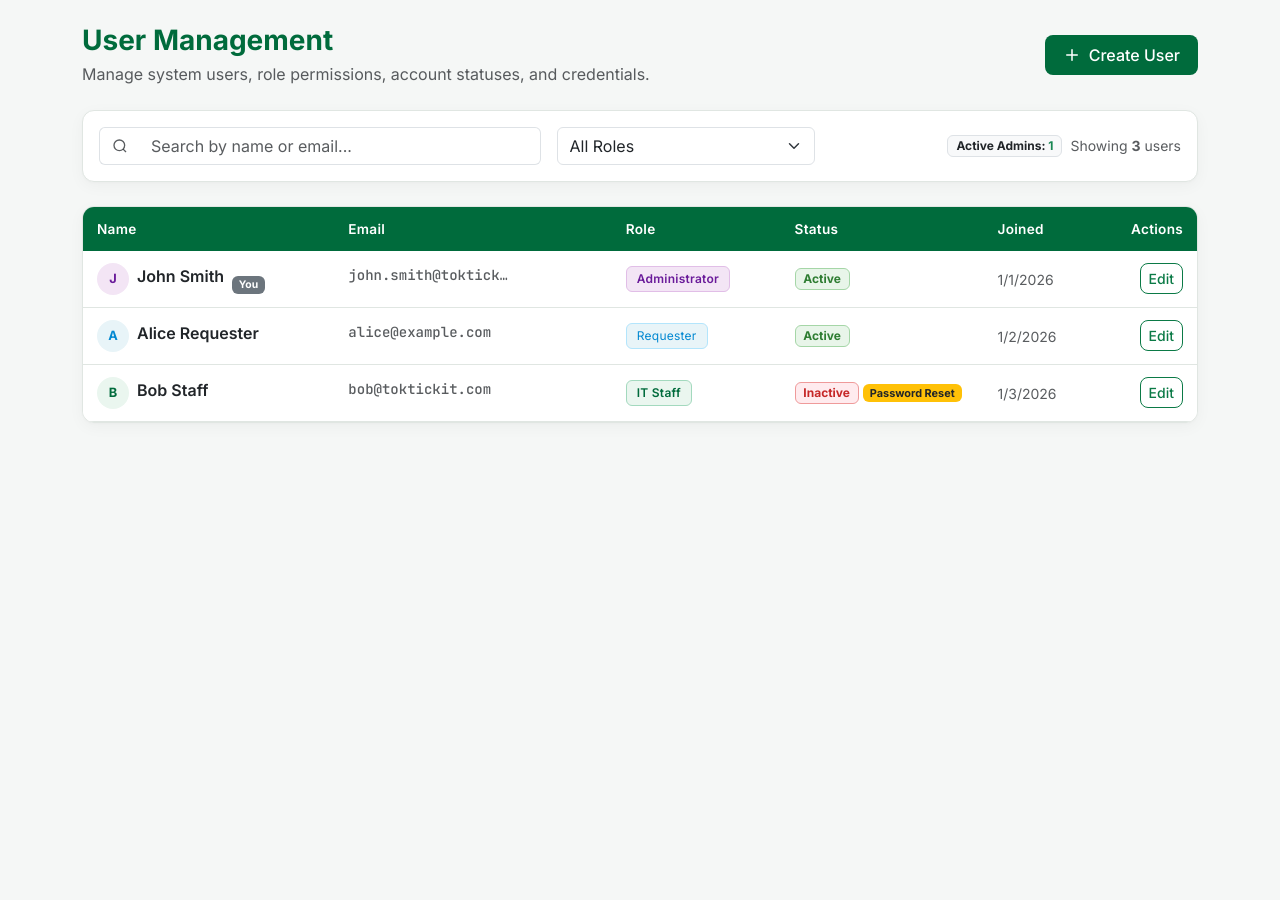
Test: UserManagement Component Tests (UI-06, AC-13..16, FR-17..20) › enforces self-deactivation prevention when editing own admin account (AC-14, BR-21)
The image size is (1280, 900).
# John Smith is ID 1 (current logged-in user)
What coordinates should you click on to do the following:
click the button with test id "btn-edit-user-1"
I would click on:
 (1161, 279)
Its box is x1=1140 y1=264 x2=1183 y2=294.
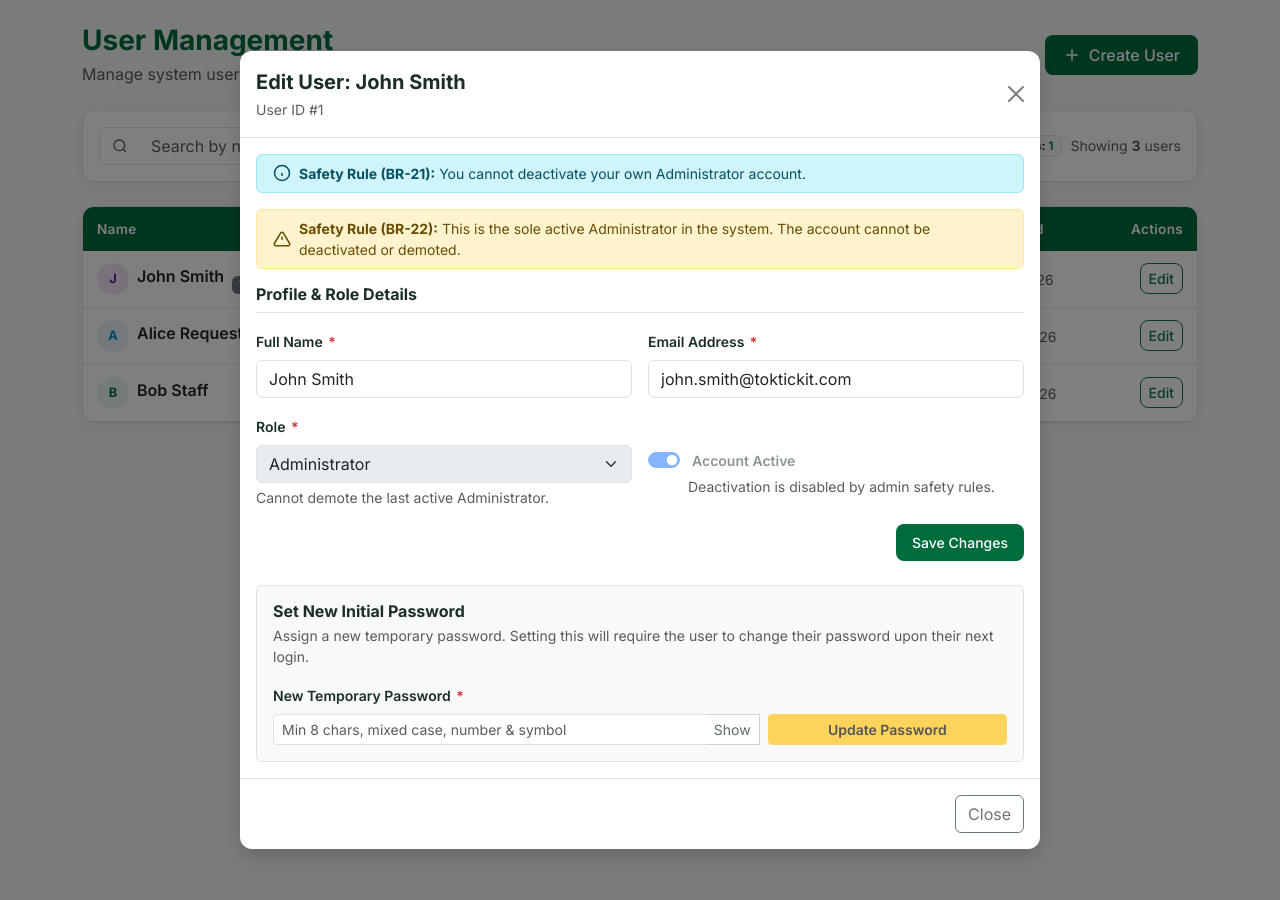
Check: the dialog with test id "edit-user-modal" is shown
Check: the message "Safety Rule (BR-21): You cannot deactivate your own Administrator account." is shown, box x1=256 y1=154 x2=1024 y2=193
Check: the checkbox with test id "edit-active-checkbox" is disabled, box x1=648 y1=452 x2=680 y2=468
